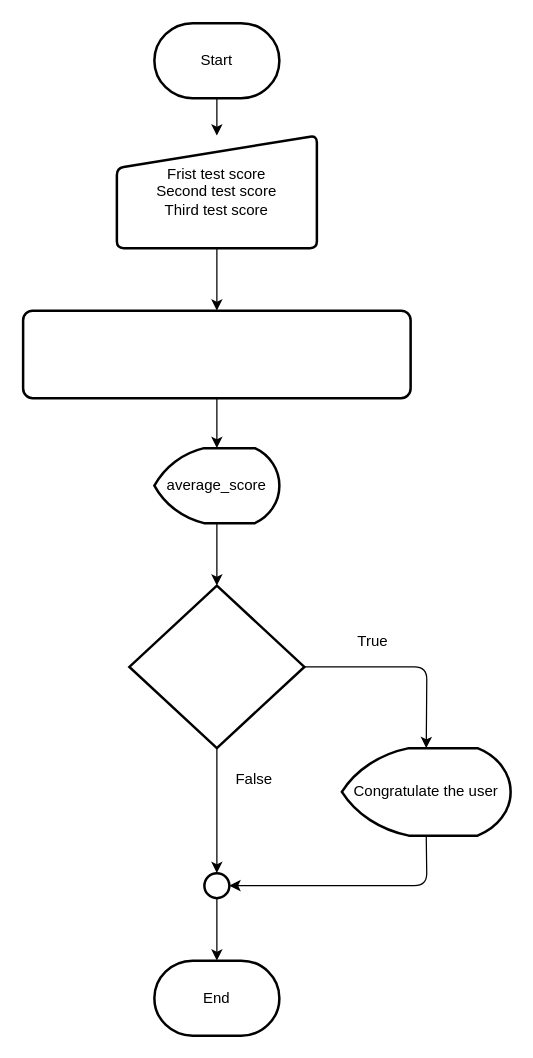
Image size: 533x1058. Some labels were removed from this diagram. The centre of each missing label's shape, as x and y in pixels:
average_score = (Frist test score + Second test score+Third test score) / 3: point 216,354
average_score > 95: point 216,666
